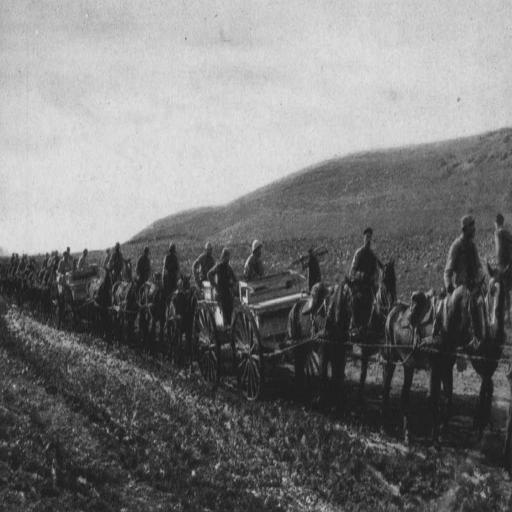horse: (385, 274, 490, 434), (286, 273, 368, 387), (472, 262, 511, 418), (365, 259, 397, 392)
